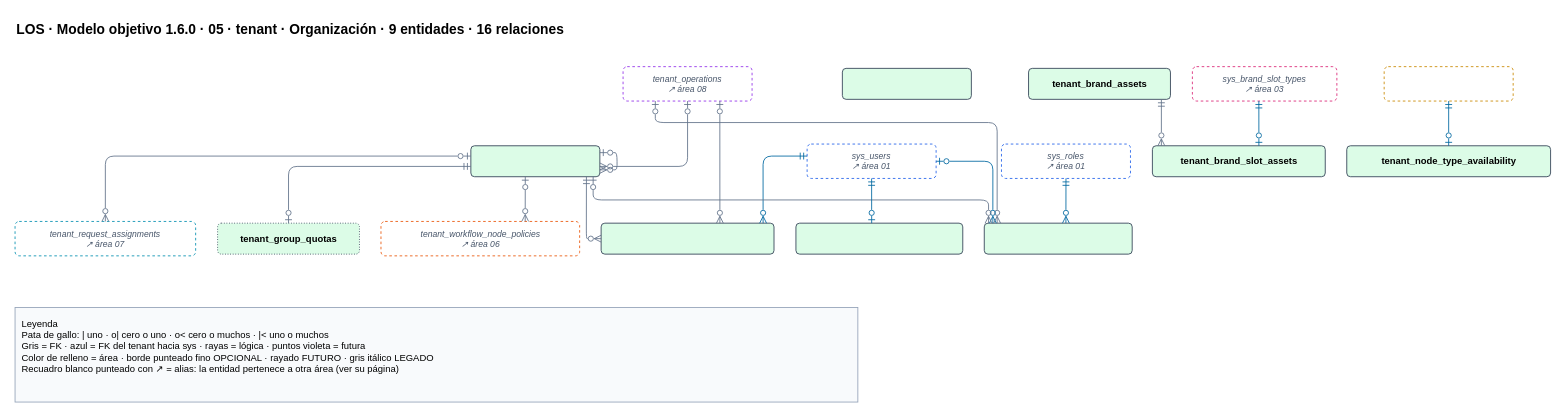
Some shapes in this 1566 by 417 pixel diagram are drawn without their labels. The shapes that lost their labels are listed below. From the top down, each one's centre as x and y in pixels, then its label:
At pixel 906 83: "tenant_settings".
At pixel 1448 83: "sys_node_types ↗ área 04".
At pixel 535 161: "tenant_groups".
At pixel 687 238: "tenant_group_memberships".
At pixel 879 238: "tenant_user_preferences".
At pixel 1057 238: "tenant_role_bindings".
